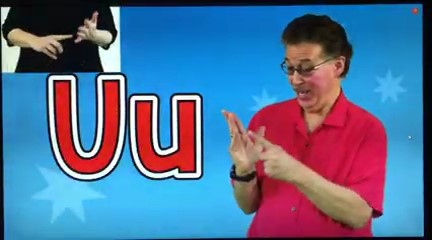U: (30, 5, 112, 64)
